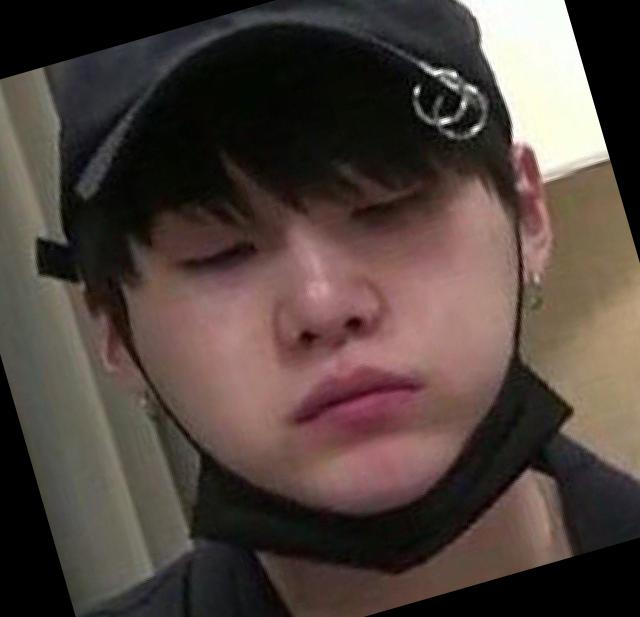mask_weared_incorrect: (139, 156, 529, 553)
